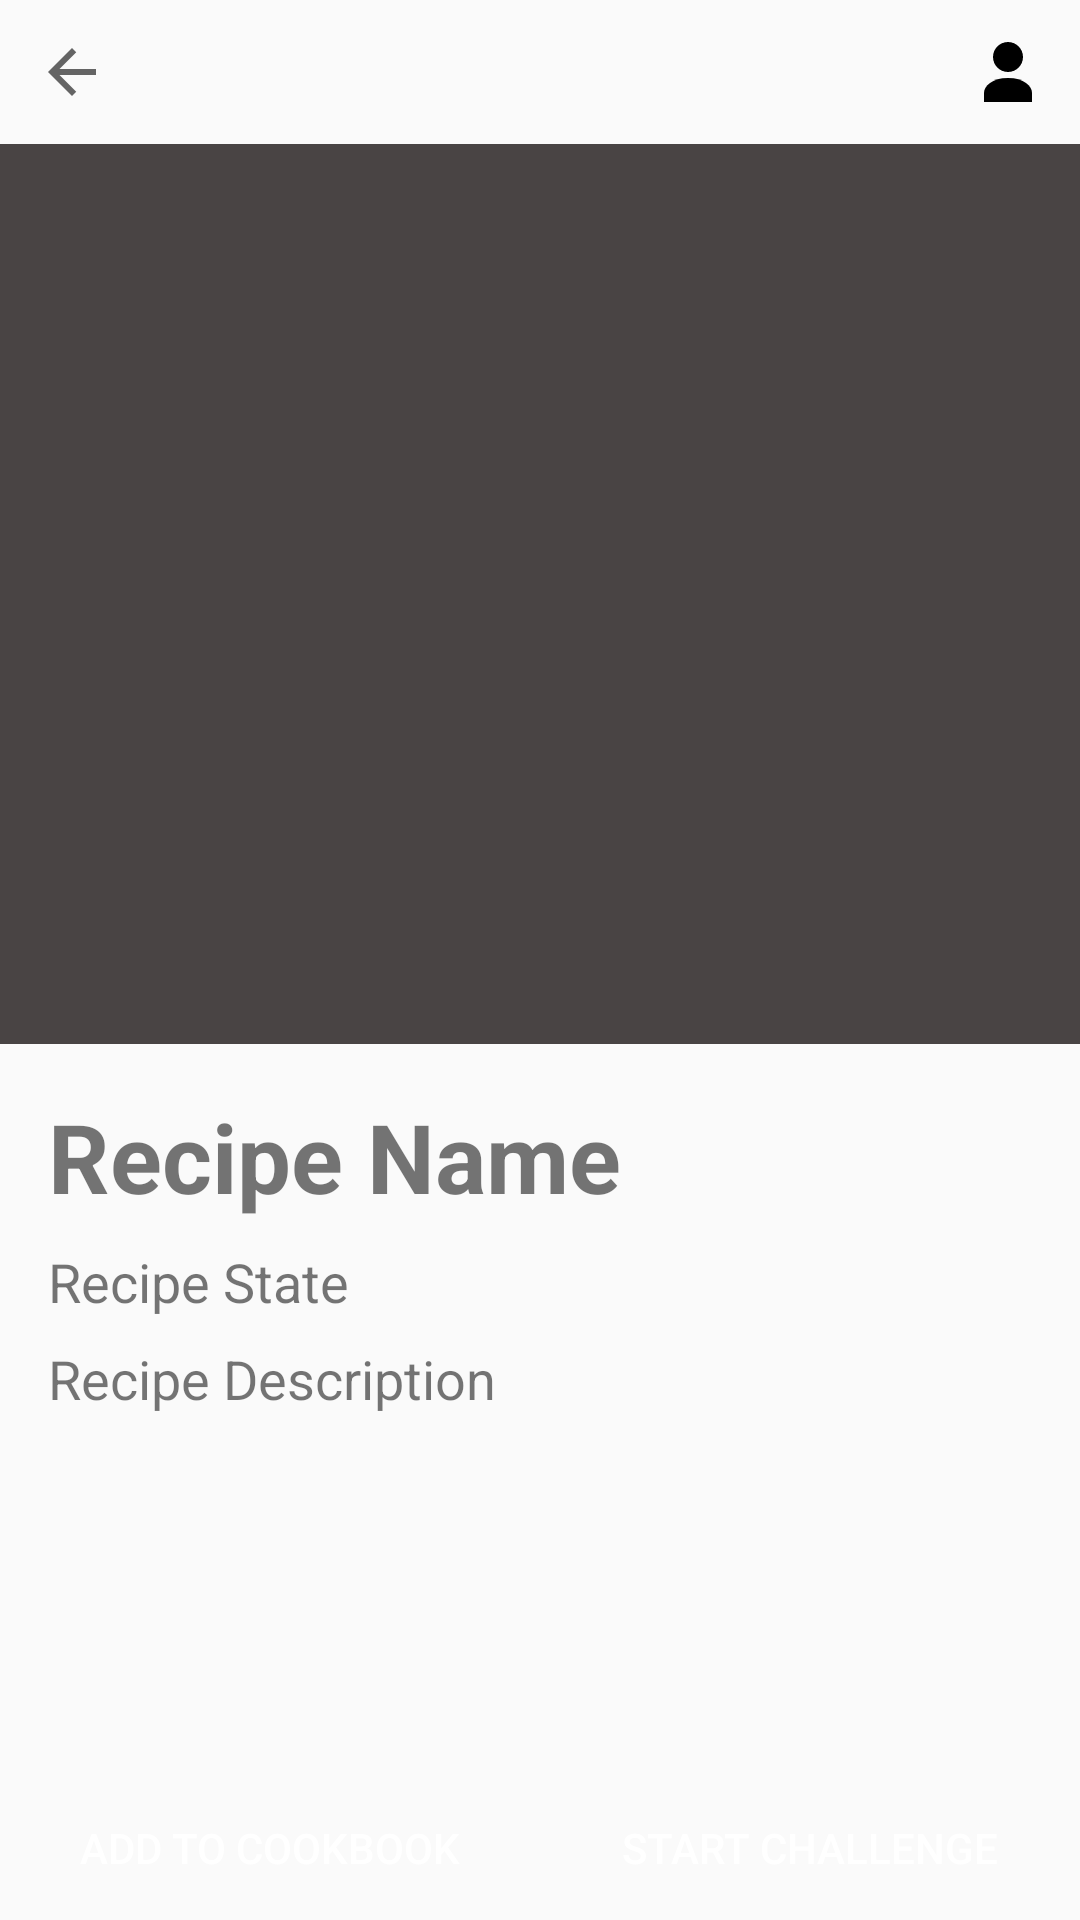

Where to tap for icons on this 1080w x 1920h app screen, as (x,y):
back arrow: (72,72)
profile: (1008,72)
